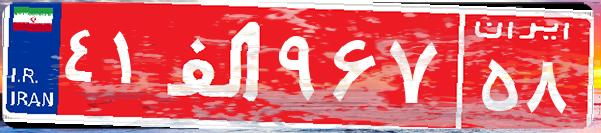1: (110, 28, 158, 105)
4: (57, 26, 110, 107)
5: (475, 38, 525, 113)
6: (330, 28, 385, 110)
7: (385, 28, 445, 110)
8: (525, 38, 570, 115)
9: (273, 28, 330, 110)
الف: (158, 15, 273, 115)
